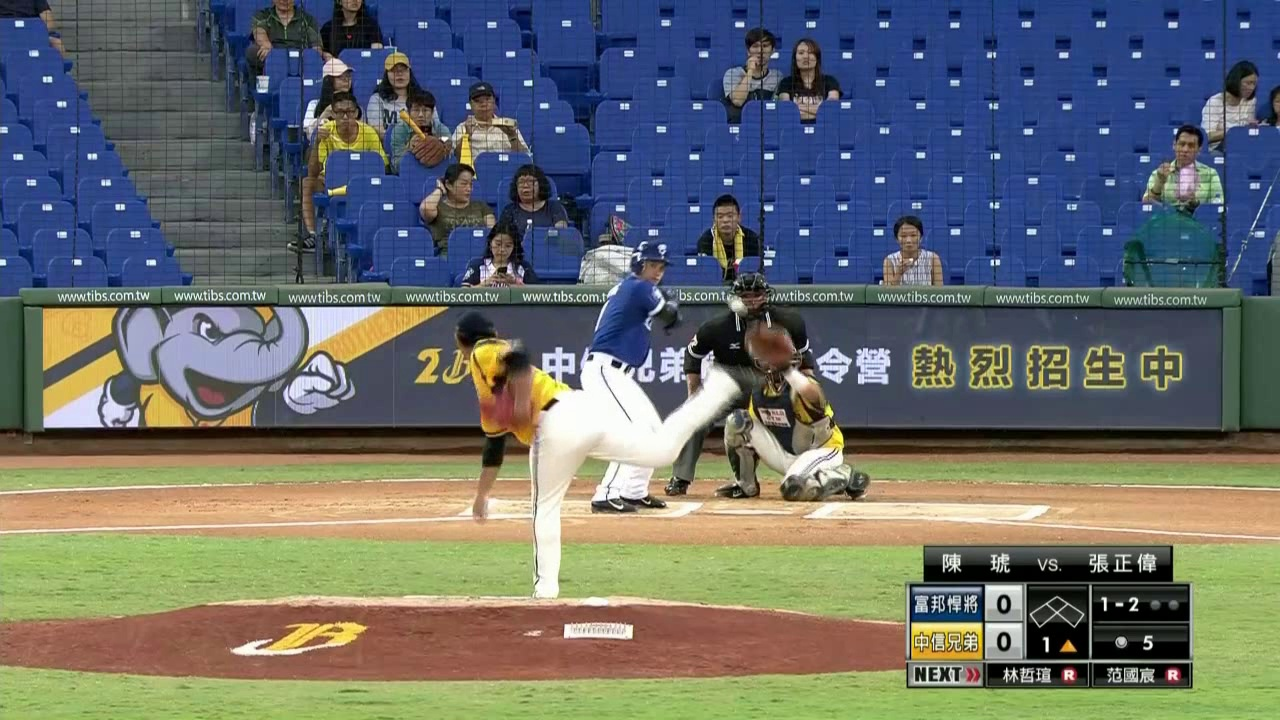ball: (732, 301, 740, 313)
base: (1026, 588, 1086, 630)
bat: (554, 234, 629, 280)
out: (1148, 594, 1186, 618)
score1: (994, 589, 1019, 621)
score2: (993, 628, 1017, 655)
strikeball: (1034, 632, 1083, 663), (1097, 593, 1140, 620)
total: (1109, 628, 1165, 658)
